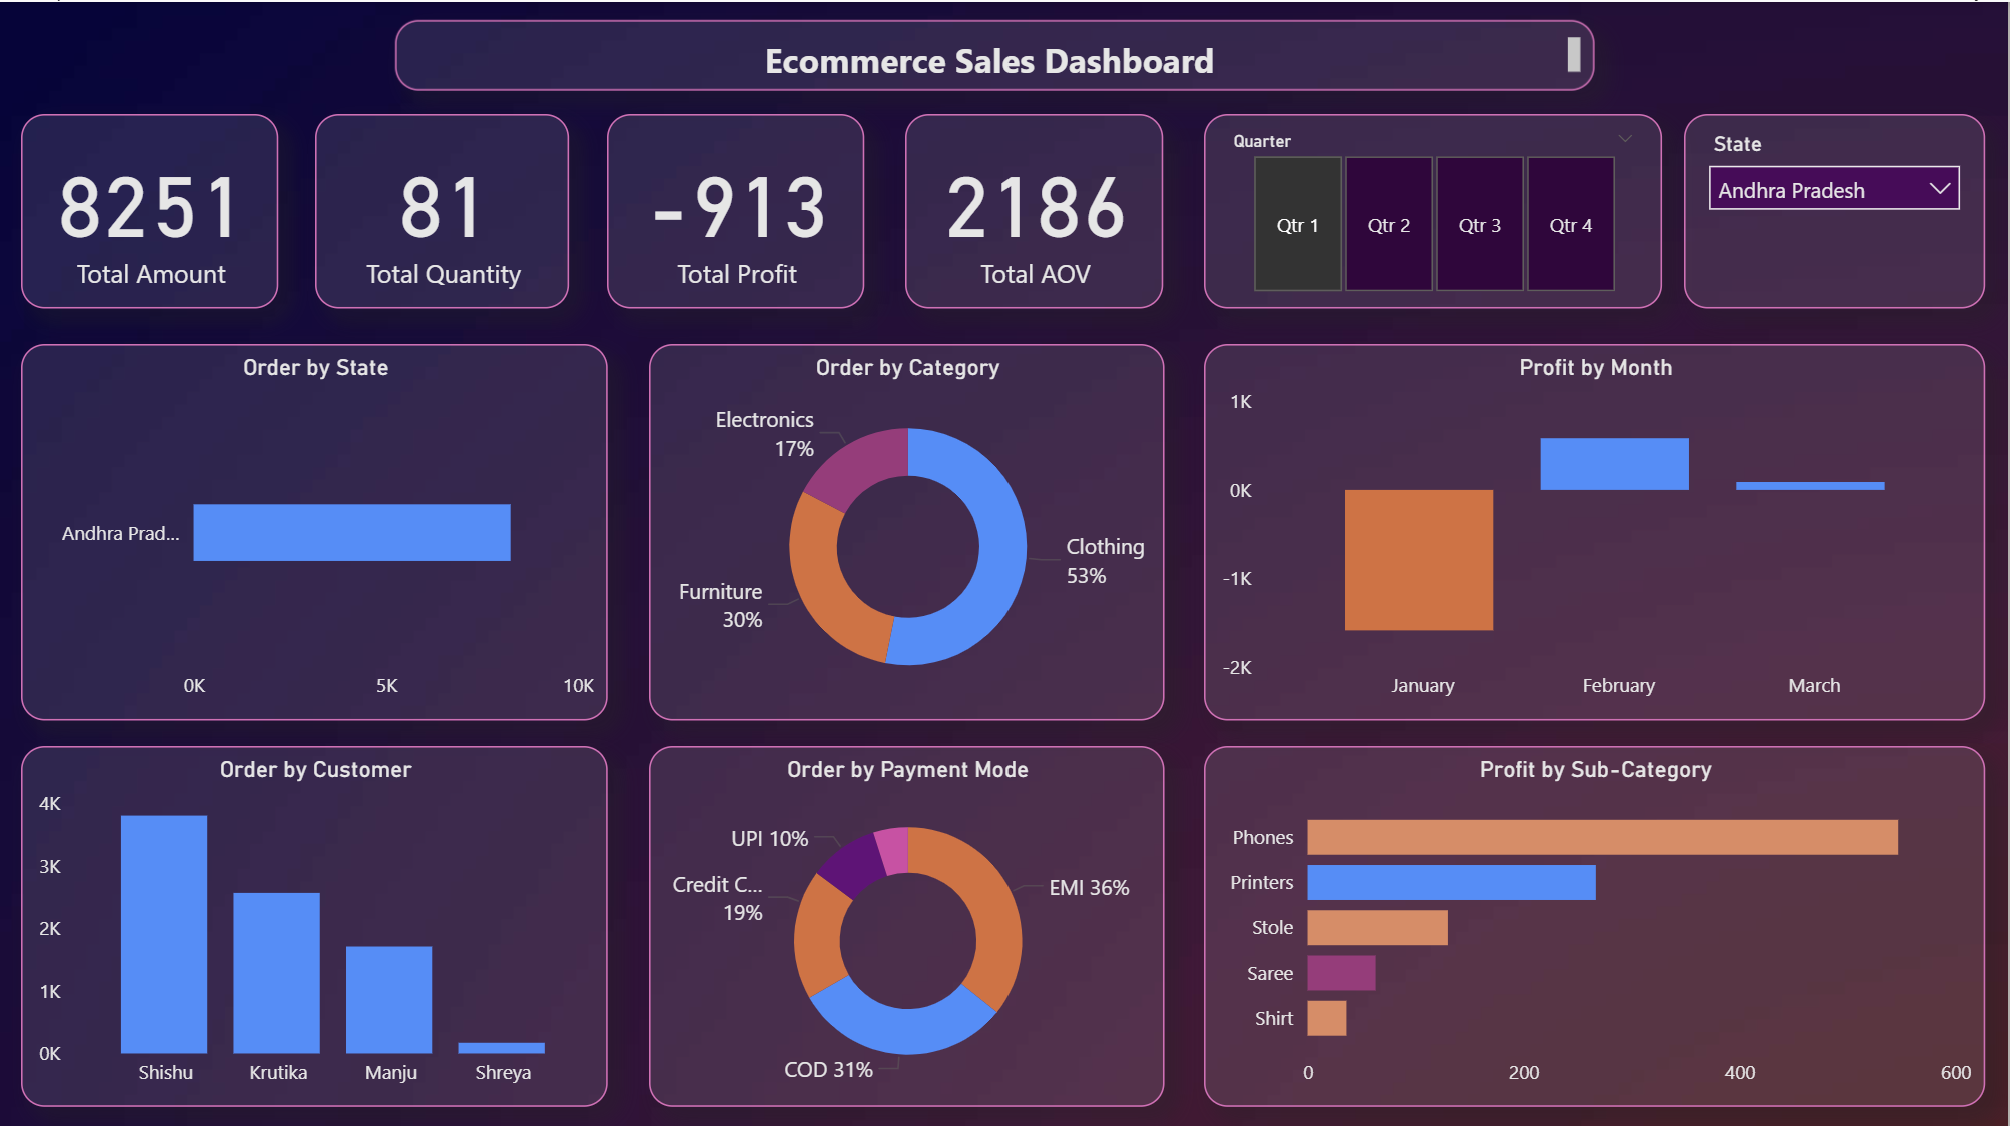

The dashboard page shown, as its layout file describes it:
{"tool":"powerbi","page":{"name":"Page 1","canvas":[1280,720],"ordinal":0},"visuals":[{"type":"textbox","box":[253,12,764,45],"z":0},{"type":"columnChart","title":"Profit by Month","fields":{"Y":["Sum(Details.Profit)"],"Category":["Orders.Order Date.Variation.Date Hierarchy.Month"]},"box":[768,218,498,240],"z":1000},{"type":"barChart","title":"Profit by Sub-Category","fields":{"Category":["Details.Sub-Category"],"Y":["Sum(Details.Profit)"]},"box":[768,474,498,230],"z":2000},{"type":"donutChart","title":"Order by Category","fields":{"Category":["Details.Category"],"Y":["Sum(Details.Quantity)"]},"box":[414,218,328,240],"z":3000},{"type":"donutChart","title":"Order by Payment Mode","fields":{"Category":["Details.PaymentMode","Details.Category"],"Y":["Sum(Details.Quantity)"]},"box":[414,474,328,230],"z":4000},{"type":"card","fields":{"Values":["Sum(Details.Amount)"]},"box":[14,72,164,124],"z":5000},{"type":"card","fields":{"Values":["Sum(Details.Quantity)"]},"box":[202,72,162,124],"z":6000},{"type":"card","fields":{"Values":["Sum(Details.Profit)"]},"box":[388,72,164,124],"z":7000},{"type":"card","fields":{"Values":["Sum(Details.AOV)"]},"box":[578,72,164,124],"z":8000},{"type":"barChart","title":"Order by State","fields":{"Category":["Orders.State"],"Y":["Sum(Details.Amount)"]},"box":[14,218,374,240],"z":9000},{"type":"columnChart","title":"Order by Customer","fields":{"Category":["Orders.CustomerName"],"Y":["Sum(Details.Amount)"]},"box":[14,474,374,230],"z":10000},{"type":"slicer","fields":{"Values":["Orders.Order Date.Variation.Date Hierarchy.Quarter"]},"box":[768,72,292,124],"z":11000},{"type":"slicer","fields":{"Values":["Orders.State"]},"box":[1074,72,192,124],"z":12000}]}

Visuals, with their boxes in screenshot pixels (x1, y1, x2, y2), scaled from the page's 1280x720 canvas onto the 2010x1126 screenshot:
textbox: <bbox>397, 19, 1597, 89</bbox>
"Profit by Month" columnChart: <bbox>1206, 341, 1988, 716</bbox>
"Profit by Sub-Category" barChart: <bbox>1206, 741, 1988, 1101</bbox>
"Order by Category" donutChart: <bbox>650, 341, 1165, 716</bbox>
"Order by Payment Mode" donutChart: <bbox>650, 741, 1165, 1101</bbox>
card - Sum(Details.Amount): <bbox>22, 113, 280, 307</bbox>
card - Sum(Details.Quantity): <bbox>317, 113, 572, 307</bbox>
card - Sum(Details.Profit): <bbox>609, 113, 867, 307</bbox>
card - Sum(Details.AOV): <bbox>908, 113, 1165, 307</bbox>
"Order by State" barChart: <bbox>22, 341, 609, 716</bbox>
"Order by Customer" columnChart: <bbox>22, 741, 609, 1101</bbox>
slicer - Orders.Order Date.Variation.Date Hierarchy.Quarter: <bbox>1206, 113, 1665, 307</bbox>
slicer - Orders.State: <bbox>1687, 113, 1988, 307</bbox>
